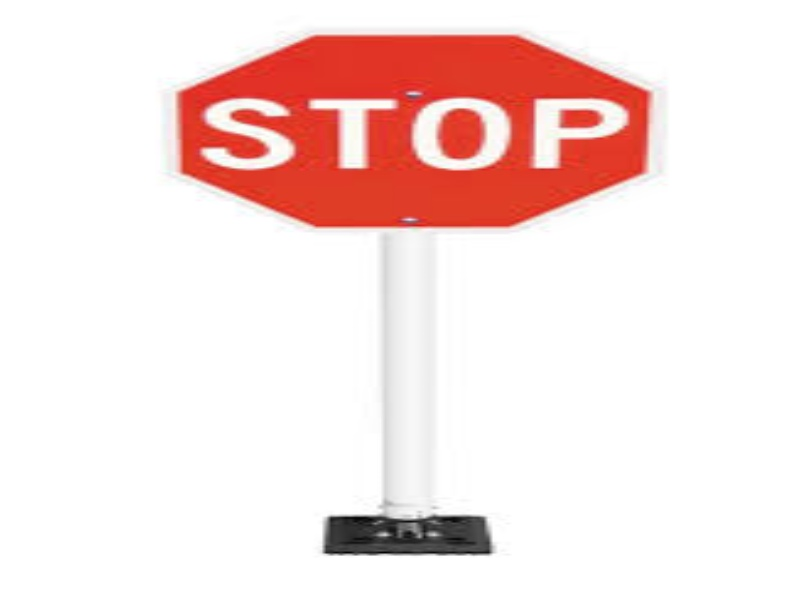Stop_Sign: (173, 35, 669, 233)
